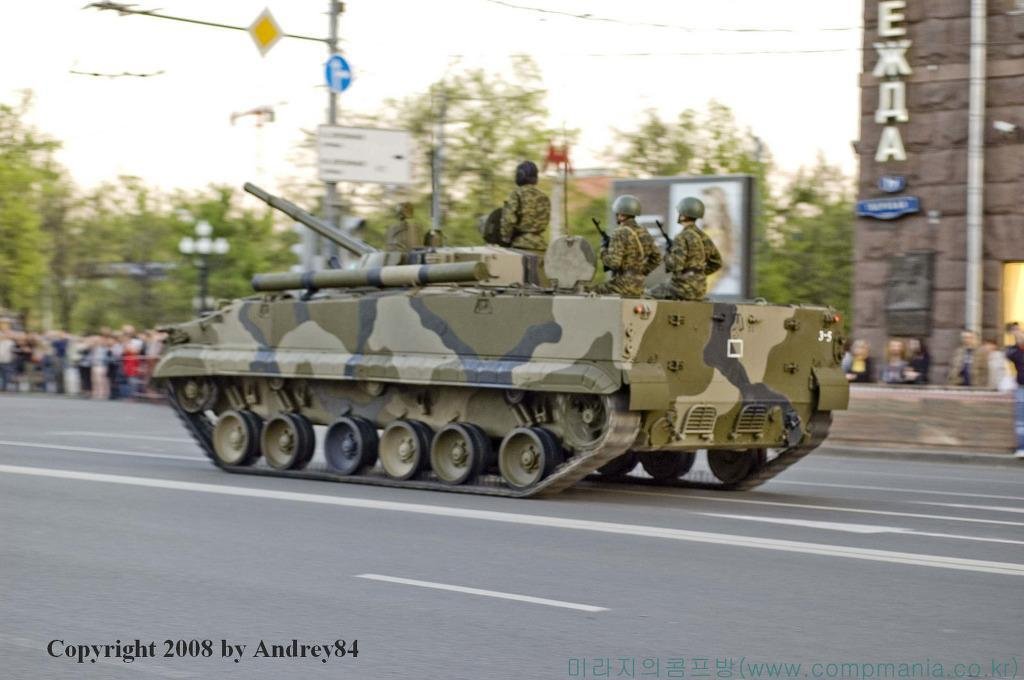MIL_IFV: (151, 160, 848, 498)
